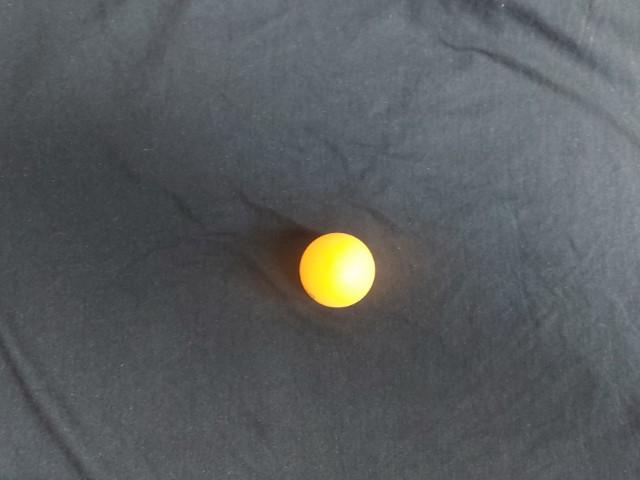oball: (294, 228, 380, 314)
